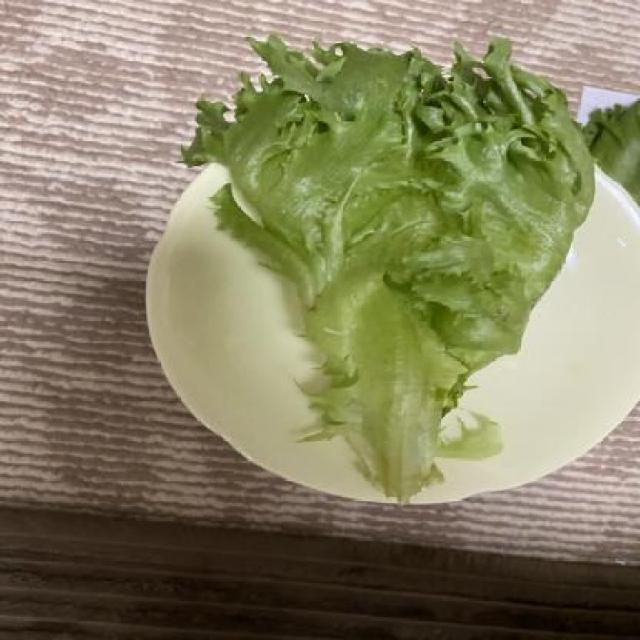lettuce: (184, 29, 597, 512)
